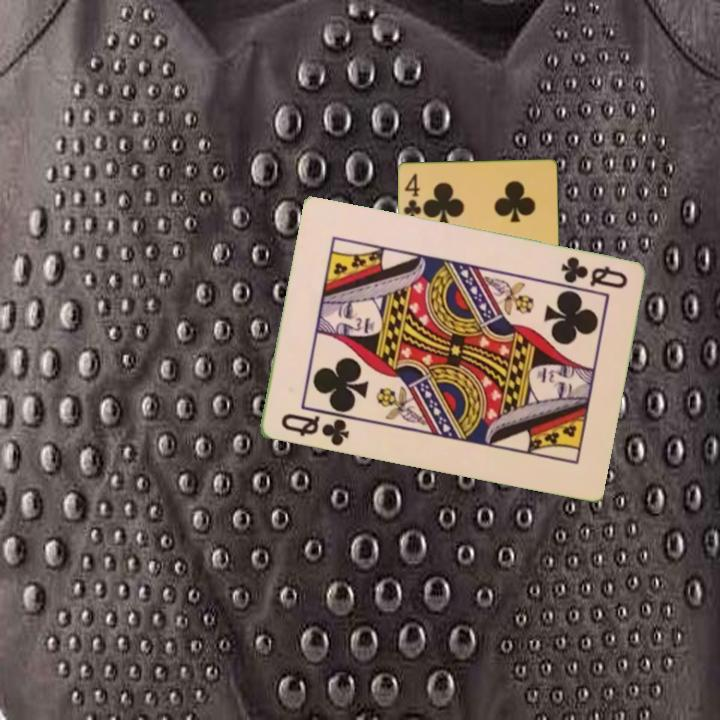4c: (401, 170, 423, 221)
Qc: (277, 410, 352, 450), (556, 253, 630, 292)
